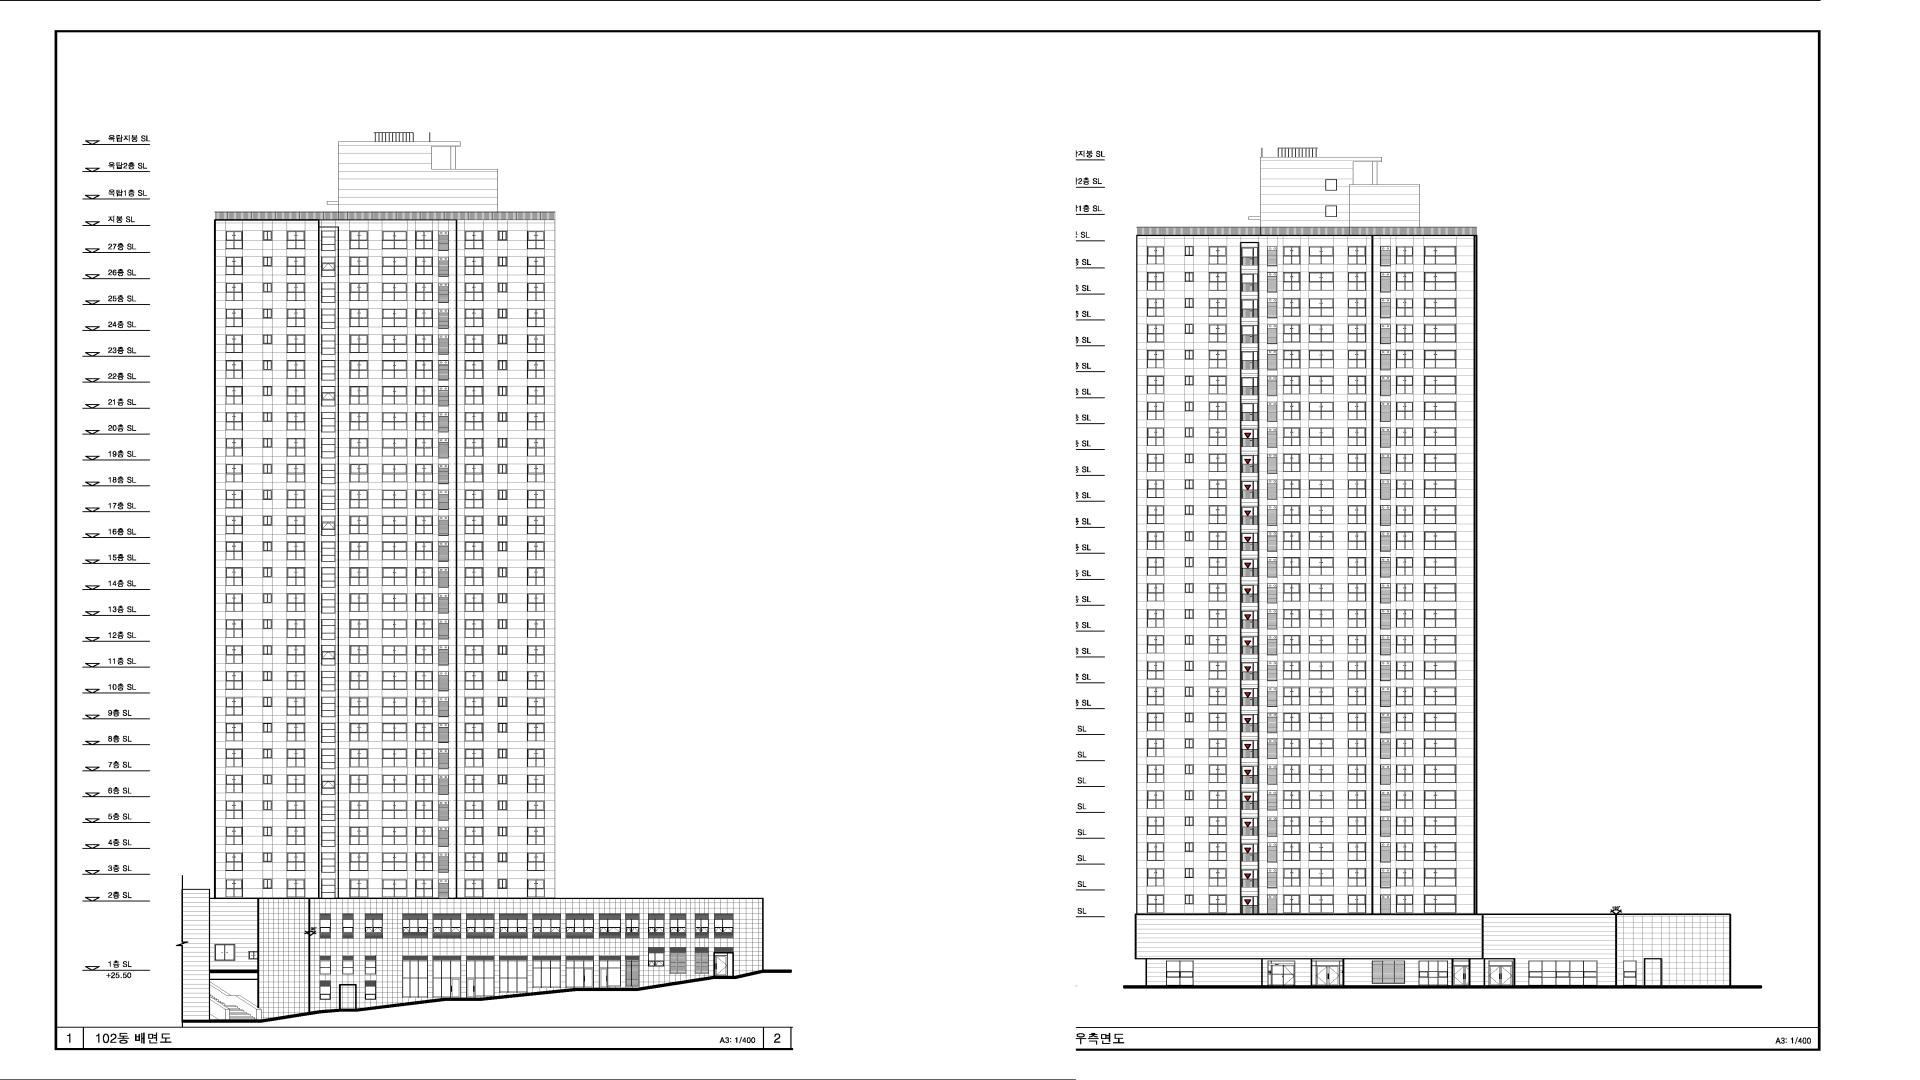door: (1312, 959, 1343, 985), (1267, 961, 1295, 985), (1488, 961, 1513, 986), (1644, 958, 1663, 986), (339, 984, 357, 1009), (1453, 960, 1469, 985), (1241, 896, 1258, 914), (1241, 869, 1258, 887), (1241, 844, 1258, 862), (1241, 818, 1258, 836), (1241, 792, 1258, 810), (1241, 766, 1258, 784), (1241, 740, 1258, 758), (1241, 714, 1258, 732), (1241, 688, 1258, 706), (1241, 585, 1258, 603), (1241, 559, 1258, 577), (1241, 533, 1258, 551), (1241, 481, 1258, 499), (1241, 455, 1258, 473), (1241, 429, 1258, 447), (1241, 403, 1258, 421), (1241, 351, 1258, 369), (1241, 274, 1258, 292), (1241, 663, 1258, 680), (1241, 637, 1258, 654), (1241, 611, 1258, 628), (1241, 507, 1258, 524), (1241, 378, 1258, 395), (1241, 326, 1258, 343), (1241, 300, 1258, 317), (1241, 248, 1258, 265), (715, 955, 728, 976), (451, 978, 460, 998), (466, 978, 475, 998), (584, 968, 593, 988), (600, 968, 608, 988)
wall: (1135, 157, 1731, 989), (209, 142, 764, 1023)
window: (402, 960, 428, 998), (1528, 961, 1569, 985), (499, 960, 528, 993), (532, 960, 561, 988), (1372, 961, 1405, 984), (1166, 960, 1194, 985), (1419, 961, 1448, 985), (433, 960, 451, 998), (475, 961, 494, 996), (1570, 961, 1597, 985), (1424, 894, 1457, 913), (1424, 298, 1457, 317), (1424, 324, 1457, 343), (1424, 531, 1457, 550), (1424, 583, 1457, 602), (1424, 635, 1457, 654), (1424, 246, 1456, 265), (1424, 272, 1456, 291), (1424, 427, 1456, 446), (1424, 479, 1456, 498), (1424, 505, 1456, 524), (1424, 557, 1456, 576), (1424, 609, 1456, 628), (1424, 738, 1456, 757), (1424, 764, 1456, 783), (1424, 816, 1456, 835), (1424, 842, 1456, 861), (1424, 868, 1456, 887), (1424, 350, 1457, 368), (1424, 376, 1456, 394), (1424, 402, 1456, 420), (1424, 454, 1456, 472), (1424, 661, 1456, 679), (1424, 687, 1456, 705), (1424, 713, 1456, 731), (1424, 791, 1456, 809), (566, 960, 584, 988), (1308, 609, 1334, 628), (1308, 479, 1334, 498), (1308, 375, 1334, 394), (382, 256, 407, 275), (382, 334, 407, 353), (382, 360, 407, 379), (382, 386, 407, 405), (382, 412, 407, 431), (382, 438, 407, 457), (382, 464, 407, 483), (382, 567, 407, 586), (382, 593, 407, 612), (382, 619, 407, 638), (382, 645, 407, 664), (382, 671, 407, 690), (382, 852, 407, 871), (1309, 868, 1334, 887), (1309, 842, 1334, 861), (1309, 816, 1334, 835), (1309, 790, 1334, 809), (1309, 738, 1334, 757), (1309, 635, 1334, 654), (1309, 583, 1334, 602), (1309, 557, 1334, 576), (1309, 531, 1334, 550), (1309, 505, 1334, 524), (1309, 453, 1334, 472), (1309, 298, 1334, 317), (1309, 246, 1334, 265), (382, 723, 408, 741), (382, 749, 408, 767), (382, 801, 408, 819), (1308, 895, 1334, 913), (1308, 765, 1334, 783), (1308, 713, 1334, 731), (1308, 402, 1334, 420), (1308, 324, 1334, 342), (382, 231, 407, 249), (382, 283, 407, 301), (382, 309, 407, 327), (382, 490, 407, 508), (382, 516, 407, 534), (382, 542, 407, 560), (382, 697, 407, 715), (382, 775, 407, 793), (382, 827, 407, 845), (382, 879, 407, 897), (1309, 687, 1334, 705), (1309, 661, 1334, 679), (1309, 428, 1334, 446), (1309, 350, 1334, 368), (1309, 272, 1334, 290), (532, 919, 561, 933), (565, 919, 594, 933), (433, 919, 461, 933), (466, 919, 494, 933), (499, 919, 527, 933), (402, 919, 428, 933), (625, 960, 639, 986), (286, 541, 305, 560), (286, 412, 305, 431), (286, 360, 305, 379), (286, 334, 305, 353), (286, 256, 305, 275), (349, 334, 368, 353), (349, 360, 368, 379), (349, 412, 368, 431), (349, 490, 368, 509), (465, 697, 484, 716), (465, 671, 484, 690), (464, 360, 483, 379), (464, 334, 483, 353), (464, 282, 483, 301), (465, 256, 484, 275), (464, 852, 483, 871), (349, 567, 368, 586), (349, 593, 368, 612), (349, 619, 368, 638), (349, 645, 368, 664), (349, 671, 368, 690), (349, 697, 368, 716), (1347, 298, 1366, 317), (1208, 894, 1227, 913), (1208, 324, 1227, 343), (1208, 453, 1227, 472), (1208, 479, 1227, 498), (1208, 505, 1227, 524), (1208, 531, 1227, 550), (1208, 557, 1227, 576), (1208, 583, 1227, 602), (1208, 609, 1227, 628), (1208, 738, 1227, 757), (1208, 790, 1227, 809), (1208, 816, 1227, 835), (1208, 842, 1227, 861), (1348, 427, 1367, 446), (1347, 738, 1366, 757), (214, 944, 235, 961), (225, 256, 243, 275), (225, 308, 243, 327), (225, 360, 243, 379), (225, 386, 243, 405), (225, 412, 243, 431), (225, 438, 243, 457), (225, 567, 243, 586), (225, 619, 243, 638), (225, 645, 243, 664), (225, 671, 243, 690), (225, 800, 243, 819), (225, 852, 243, 871), (287, 852, 305, 871), (287, 826, 305, 845), (287, 800, 305, 819), (286, 749, 305, 767), (286, 723, 305, 741), (286, 697, 305, 715), (287, 645, 305, 664), (287, 619, 305, 638), (287, 593, 305, 612), (287, 567, 305, 586), (286, 516, 305, 534), (287, 490, 305, 509), (287, 464, 305, 483), (287, 386, 305, 405), (287, 308, 305, 327), (287, 282, 305, 301), (349, 257, 368, 275), (349, 283, 368, 301), (349, 309, 368, 327), (350, 386, 368, 405), (349, 438, 368, 456), (349, 516, 368, 534), (464, 801, 483, 819), (464, 775, 483, 793), (465, 749, 484, 767), (465, 723, 484, 741), (465, 645, 483, 664), (465, 619, 483, 638), (465, 593, 483, 612), (465, 567, 483, 586), (465, 464, 484, 482), (465, 412, 483, 431), (465, 308, 483, 327), (415, 256, 433, 275), (527, 360, 545, 379), (527, 412, 545, 431), (527, 567, 545, 586), (527, 619, 545, 638), (527, 645, 545, 664), (527, 852, 545, 871), (350, 541, 368, 560), (349, 723, 368, 741), (349, 749, 368, 767), (349, 801, 368, 819), (349, 827, 368, 845), (350, 852, 368, 871), (415, 852, 433, 871), (415, 645, 433, 664), (415, 619, 433, 638), (415, 567, 433, 586), (415, 412, 433, 431), (415, 386, 433, 405), (415, 360, 433, 379), (1147, 453, 1165, 472), (1147, 583, 1165, 602), (1396, 635, 1414, 654), (1396, 479, 1414, 498), (1348, 246, 1366, 265), (1347, 272, 1366, 290), (1348, 324, 1366, 343), (1348, 350, 1366, 369), (1347, 402, 1366, 420), (1208, 868, 1227, 886), (1283, 453, 1301, 472), (1283, 427, 1301, 446), (1283, 298, 1301, 317), (1283, 246, 1301, 265), (1209, 246, 1227, 265), (1208, 272, 1227, 290), (1209, 298, 1227, 317), (1208, 350, 1227, 368), (1208, 376, 1227, 394), (1208, 428, 1227, 446), (1208, 635, 1227, 653), (1208, 661, 1227, 679), (1208, 687, 1227, 705), (1208, 713, 1227, 731), (1208, 765, 1227, 783), (1147, 246, 1165, 265), (1146, 298, 1164, 317), (1348, 453, 1366, 472), (1348, 479, 1366, 498), (1348, 505, 1366, 524), (1348, 531, 1366, 550), (1348, 557, 1366, 576), (1348, 583, 1366, 602), (1348, 609, 1366, 628), (1348, 635, 1366, 654), (1347, 713, 1366, 731), (1348, 790, 1366, 809), (1348, 816, 1366, 835), (1348, 842, 1366, 861), (1283, 609, 1301, 628), (1283, 583, 1301, 602), (1283, 531, 1301, 550), (608, 960, 621, 986), (670, 953, 686, 974), (225, 231, 243, 249), (225, 283, 243, 301), (225, 464, 243, 482), (225, 490, 243, 508), (225, 516, 243, 534), (225, 542, 243, 560), (225, 697, 243, 715), (225, 723, 243, 741), (225, 749, 243, 767), (225, 775, 243, 793), (225, 879, 243, 897), (287, 879, 305, 897), (287, 775, 305, 793), (287, 671, 305, 689), (287, 438, 305, 456), (287, 231, 305, 249), (350, 231, 368, 249), (350, 464, 368, 482), (465, 542, 483, 560), (465, 516, 483, 534), (465, 490, 483, 508), (465, 438, 483, 456), (465, 386, 483, 404), (465, 231, 483, 249), (415, 335, 433, 353), (415, 309, 433, 327), (415, 283, 433, 301), (415, 231, 433, 249), (527, 231, 545, 249), (527, 257, 545, 275), (527, 283, 545, 301), (527, 309, 545, 327), (527, 335, 545, 353), (527, 386, 545, 404), (527, 438, 545, 456), (527, 464, 545, 482), (527, 490, 545, 508), (527, 516, 545, 534), (527, 542, 545, 560), (527, 697, 545, 715), (527, 723, 545, 741), (527, 749, 545, 767), (527, 775, 545, 793), (527, 801, 545, 819), (527, 879, 545, 897), (465, 879, 483, 897), (465, 827, 483, 845), (350, 775, 368, 793), (350, 879, 368, 897), (415, 879, 433, 897), (415, 827, 433, 845), (415, 801, 433, 819), (415, 775, 433, 793), (415, 749, 433, 767), (415, 697, 433, 715), (415, 671, 433, 689), (415, 594, 433, 612), (415, 542, 433, 560), (415, 516, 433, 534), (415, 490, 433, 508), (415, 464, 433, 482), (415, 438, 433, 456), (1147, 765, 1165, 783), (1396, 661, 1414, 679), (1348, 376, 1366, 394), (1283, 402, 1301, 420), (1283, 324, 1301, 342), (1209, 402, 1227, 420), (1147, 350, 1165, 368), (1146, 428, 1164, 446), (1348, 661, 1366, 679), (1348, 687, 1366, 705), (1348, 765, 1366, 783), (1348, 868, 1366, 886), (1348, 895, 1366, 913), (1283, 713, 1301, 731), (226, 334, 243, 353), (225, 593, 242, 612), (527, 671, 544, 690), (1147, 479, 1164, 498), (1147, 505, 1164, 524), (1147, 531, 1164, 550), (1147, 557, 1164, 576), (1147, 609, 1164, 628), (1147, 738, 1164, 757), (1147, 816, 1164, 835), (1147, 842, 1164, 861), (1147, 894, 1164, 913), (1396, 842, 1413, 861), (1396, 816, 1413, 835), (1396, 790, 1413, 809), (1396, 609, 1413, 628), (1396, 583, 1413, 602), (1396, 557, 1413, 576), (1396, 531, 1413, 550), (1396, 505, 1413, 524), (1396, 453, 1413, 472), (1396, 246, 1413, 265), (1283, 505, 1300, 524), (1283, 479, 1300, 498), (1283, 894, 1300, 913), (1283, 868, 1300, 887), (1283, 842, 1300, 861), (1283, 816, 1300, 835), (1283, 790, 1300, 809), (1283, 764, 1300, 783), (1283, 738, 1300, 757), (1283, 661, 1300, 680), (1283, 635, 1300, 654), (1283, 557, 1300, 576), (599, 919, 621, 933), (225, 827, 242, 845), (527, 594, 544, 612), (527, 827, 544, 845), (415, 723, 432, 741), (1147, 635, 1164, 653), (1147, 661, 1164, 679), (1147, 687, 1164, 705), (1147, 713, 1164, 731), (1147, 791, 1164, 809), (1147, 868, 1164, 886), (1396, 895, 1413, 913), (1396, 868, 1413, 886), (1396, 765, 1413, 783), (1396, 739, 1413, 757), (1396, 713, 1413, 731), (1396, 687, 1413, 705), (1396, 428, 1413, 446), (1396, 402, 1413, 420), (1396, 376, 1413, 394), (1396, 350, 1413, 368), (1396, 324, 1413, 342), (1396, 298, 1413, 316), (1396, 272, 1413, 290), (1283, 376, 1300, 394), (1283, 350, 1300, 368), (1283, 272, 1300, 290), (1147, 272, 1164, 290), (1147, 324, 1164, 342), (1147, 376, 1164, 394), (1147, 402, 1164, 420), (1283, 687, 1300, 705), (695, 953, 709, 974), (321, 308, 335, 329), (321, 334, 335, 355), (321, 360, 335, 381), (321, 515, 335, 536), (321, 541, 335, 562), (321, 567, 335, 588), (321, 619, 335, 640), (321, 800, 335, 821), (321, 826, 335, 847), (1624, 961, 1636, 985), (321, 231, 335, 251), (321, 257, 335, 277), (321, 283, 335, 303), (321, 386, 335, 406), (321, 412, 335, 432), (321, 438, 335, 458), (321, 464, 335, 484), (321, 490, 335, 510), (321, 594, 335, 614), (321, 645, 335, 665), (321, 671, 335, 691), (321, 697, 335, 717), (321, 723, 335, 743), (321, 749, 335, 769), (321, 775, 335, 795), (321, 852, 335, 872), (714, 919, 733, 933), (321, 879, 335, 898), (438, 541, 449, 562), (438, 334, 449, 355), (1267, 505, 1278, 526), (1380, 479, 1391, 500), (1380, 505, 1391, 526), (1380, 531, 1391, 552), (1267, 816, 1278, 837), (1267, 790, 1278, 811), (1267, 738, 1278, 759), (1267, 609, 1278, 630), (1267, 583, 1278, 604), (1267, 531, 1278, 552), (648, 919, 665, 932), (648, 953, 665, 966), (438, 516, 449, 536), (438, 490, 449, 510), (438, 464, 449, 484), (438, 438, 449, 458), (438, 412, 449, 432), (438, 386, 449, 406), (438, 360, 449, 380), (438, 309, 449, 329), (438, 283, 449, 303), (438, 257, 449, 277), (438, 231, 449, 251), (438, 852, 449, 872), (438, 827, 449, 847), (438, 801, 449, 821), (438, 775, 449, 795), (438, 749, 449, 769), (438, 723, 449, 743), (438, 671, 449, 691), (438, 619, 449, 639), (438, 593, 449, 613), (438, 567, 449, 587), (1267, 479, 1278, 499), (1267, 402, 1278, 422), (1267, 376, 1278, 396), (1267, 350, 1278, 370), (1267, 324, 1278, 344), (1267, 298, 1278, 318), (1267, 272, 1278, 292), (1267, 246, 1278, 266), (1380, 246, 1391, 266), (1380, 272, 1391, 292), (1380, 298, 1391, 318), (1380, 324, 1391, 344), (1380, 350, 1391, 370), (1380, 376, 1391, 396), (1380, 402, 1391, 422), (1380, 428, 1391, 448), (1380, 454, 1391, 474), (1380, 583, 1391, 603), (1380, 635, 1391, 655), (1380, 687, 1391, 707), (1380, 713, 1391, 733), (1380, 739, 1391, 759), (1380, 765, 1391, 785), (1380, 816, 1391, 836), (1380, 868, 1391, 888), (1267, 868, 1278, 888), (1267, 842, 1278, 862), (1267, 765, 1278, 785), (1267, 713, 1278, 733), (1267, 687, 1278, 707), (1267, 635, 1278, 655), (1380, 609, 1390, 630), (1267, 453, 1277, 474), (1380, 790, 1390, 811), (1267, 557, 1277, 578), (438, 879, 449, 898), (1267, 895, 1278, 914), (1380, 895, 1391, 914), (670, 919, 686, 932), (438, 697, 448, 717), (438, 645, 448, 665), (1267, 428, 1277, 448), (1380, 558, 1390, 578), (1380, 661, 1390, 681), (1380, 842, 1390, 862), (1267, 661, 1277, 681), (625, 919, 639, 933), (695, 919, 709, 933), (342, 961, 354, 974), (320, 986, 331, 1000), (365, 986, 376, 1000), (1325, 179, 1337, 191), (320, 919, 331, 932), (343, 919, 354, 932), (320, 961, 331, 974), (365, 961, 376, 974), (373, 919, 383, 932), (1326, 206, 1337, 217), (365, 919, 373, 932), (497, 800, 507, 810), (498, 645, 508, 655), (498, 619, 508, 629), (497, 593, 507, 603), (498, 386, 508, 396), (497, 308, 507, 318), (498, 283, 508, 293), (497, 231, 507, 241), (263, 256, 273, 266), (262, 438, 272, 448), (262, 541, 272, 551), (262, 826, 272, 836), (1184, 246, 1194, 256), (1184, 272, 1194, 282), (1184, 298, 1194, 308), (1184, 324, 1194, 334), (1184, 350, 1194, 360), (1184, 376, 1194, 386), (1184, 402, 1194, 412), (1184, 453, 1194, 463), (1184, 479, 1194, 489), (1184, 505, 1194, 515), (1184, 557, 1194, 567), (1184, 583, 1194, 593), (1184, 609, 1194, 619), (1184, 635, 1194, 645), (1184, 661, 1194, 671), (1184, 687, 1194, 697), (1184, 713, 1194, 723), (1184, 738, 1194, 748), (1184, 790, 1194, 800), (1184, 816, 1194, 826), (1184, 842, 1194, 852), (1184, 868, 1194, 878), (498, 879, 507, 889), (498, 852, 507, 862), (498, 826, 507, 836), (498, 775, 507, 785), (498, 749, 507, 759), (498, 723, 507, 733), (498, 697, 507, 707), (498, 671, 507, 681), (498, 567, 507, 577), (498, 541, 507, 551), (498, 516, 507, 526), (498, 490, 507, 500), (498, 464, 507, 474), (498, 438, 507, 448), (498, 412, 507, 422), (498, 360, 507, 370), (498, 334, 507, 344), (498, 256, 507, 266), (263, 231, 272, 241), (263, 283, 272, 293), (263, 308, 272, 318), (263, 334, 272, 344), (263, 360, 272, 370), (263, 386, 272, 396), (263, 412, 272, 422), (263, 464, 272, 474), (263, 490, 272, 500), (263, 567, 272, 577), (263, 593, 272, 603), (263, 619, 272, 629), (263, 645, 272, 655), (263, 671, 272, 681), (263, 697, 272, 707), (263, 723, 272, 733), (263, 749, 272, 759), (263, 775, 272, 785), (263, 852, 272, 862), (263, 879, 272, 889), (1184, 428, 1194, 437), (1184, 531, 1193, 541), (1184, 765, 1194, 774), (1184, 895, 1194, 904), (263, 516, 272, 525), (263, 801, 272, 810), (248, 951, 258, 959)
